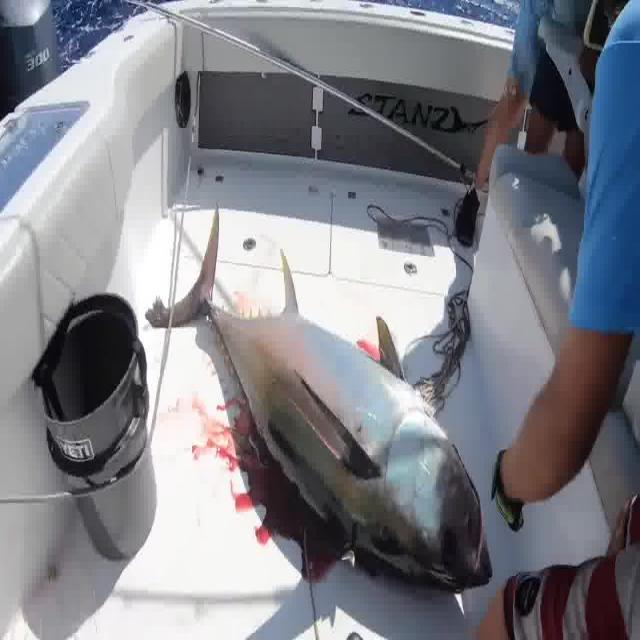Big Eye Tuna: (144, 202, 494, 598)
